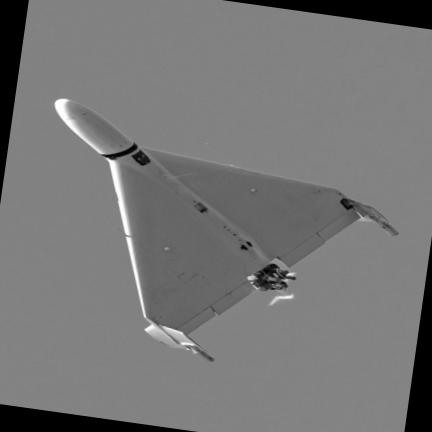Shahed: (55, 98, 397, 361)
